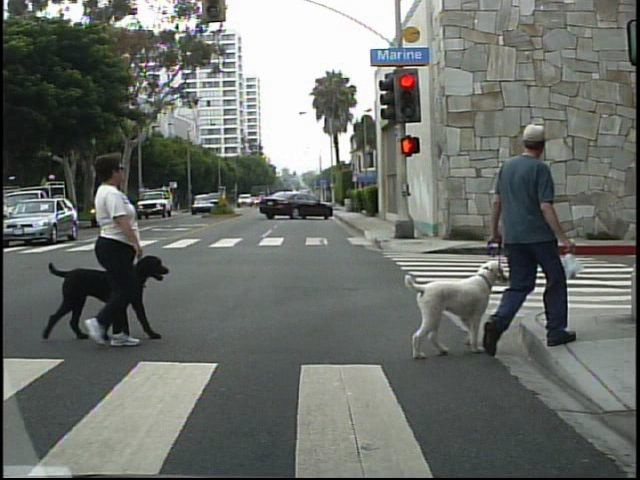person: (469, 116, 591, 362), (71, 147, 156, 351)
